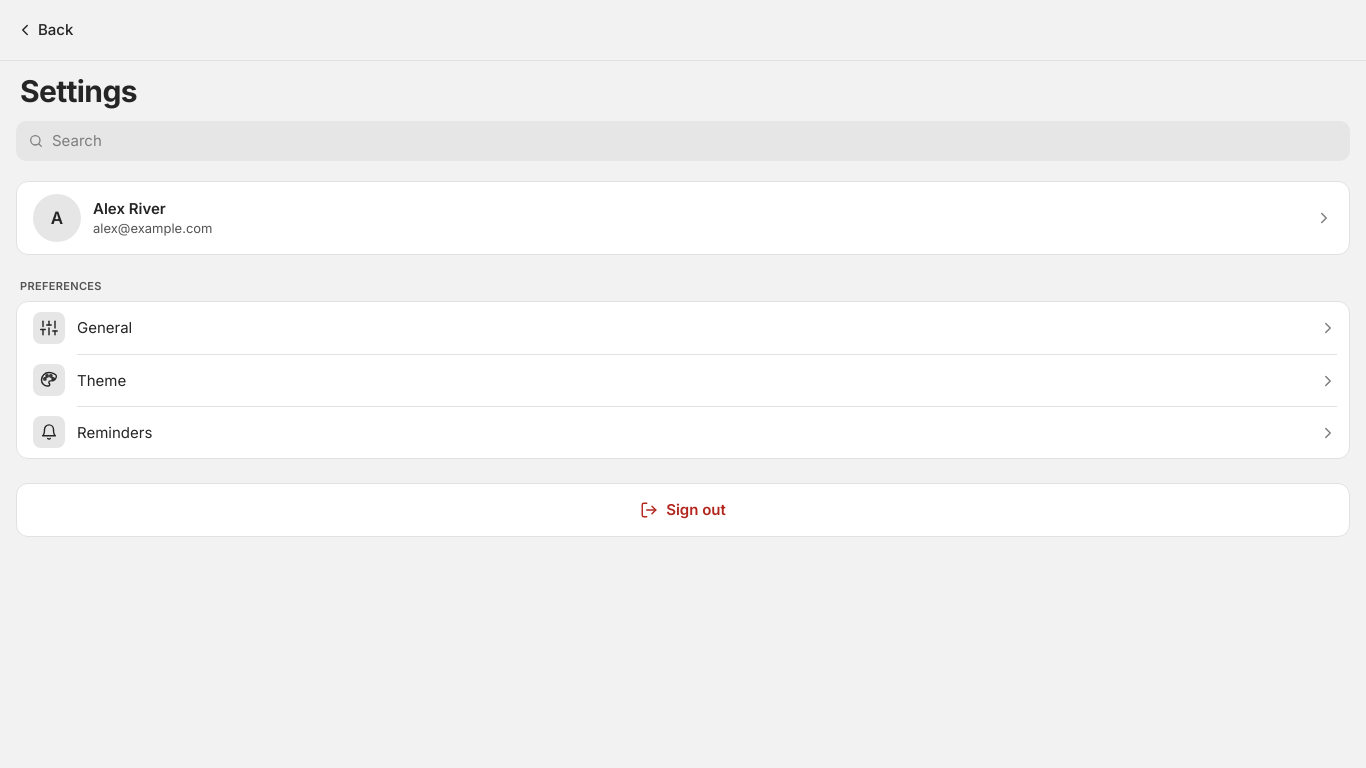
Scenario: Settings on phones (Part D) › the detail header has a back button labelled Back that shows 'Settings' and returns to the list
The width and height of the screenshot is (1366, 768).
Click the button "Theme". click: (683, 380)
box: [17,354,1349,406]
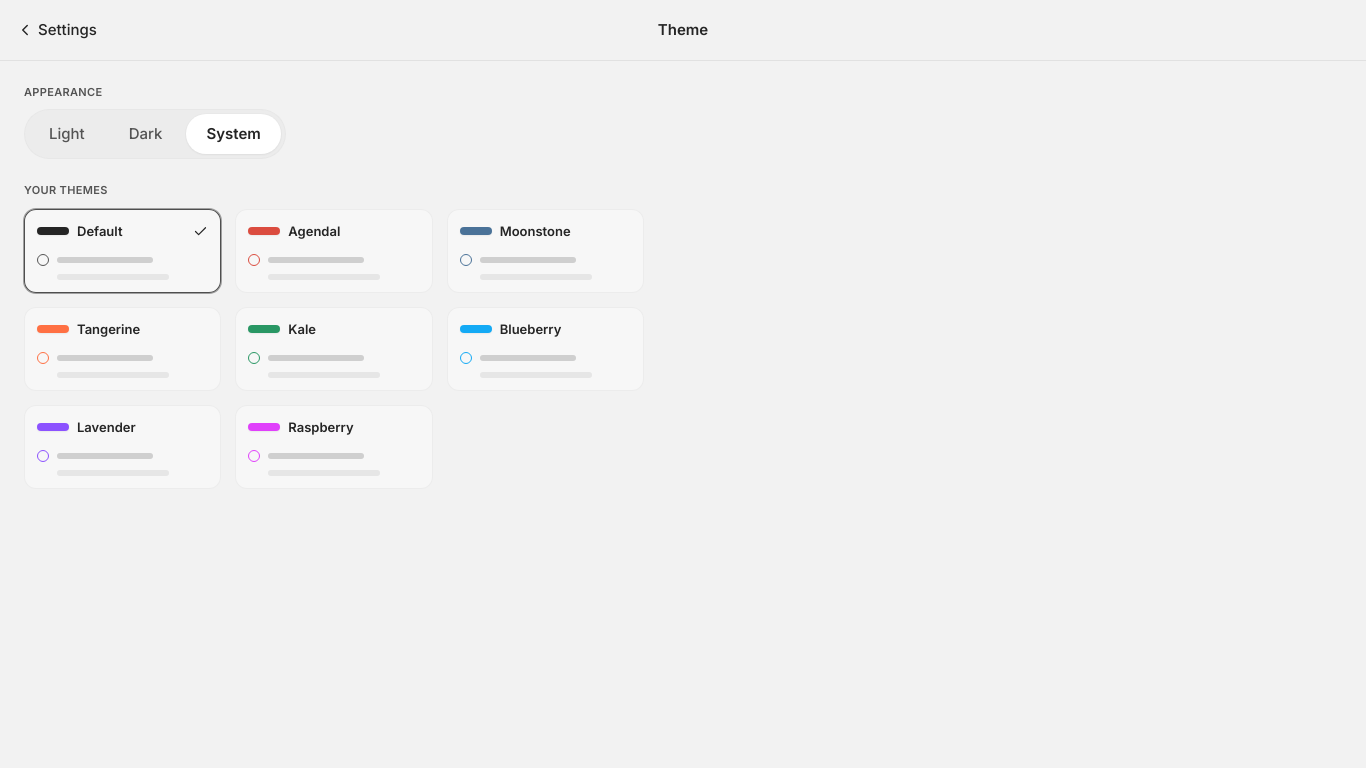
Check: the button with aria-label "Back" reads "Settings"
Check: the heading "Theme" is shown, box [658,20,708,39]
// Tap back button
Click the button with aria-label "Back". click: (56, 30)
box: [16,8,97,52]
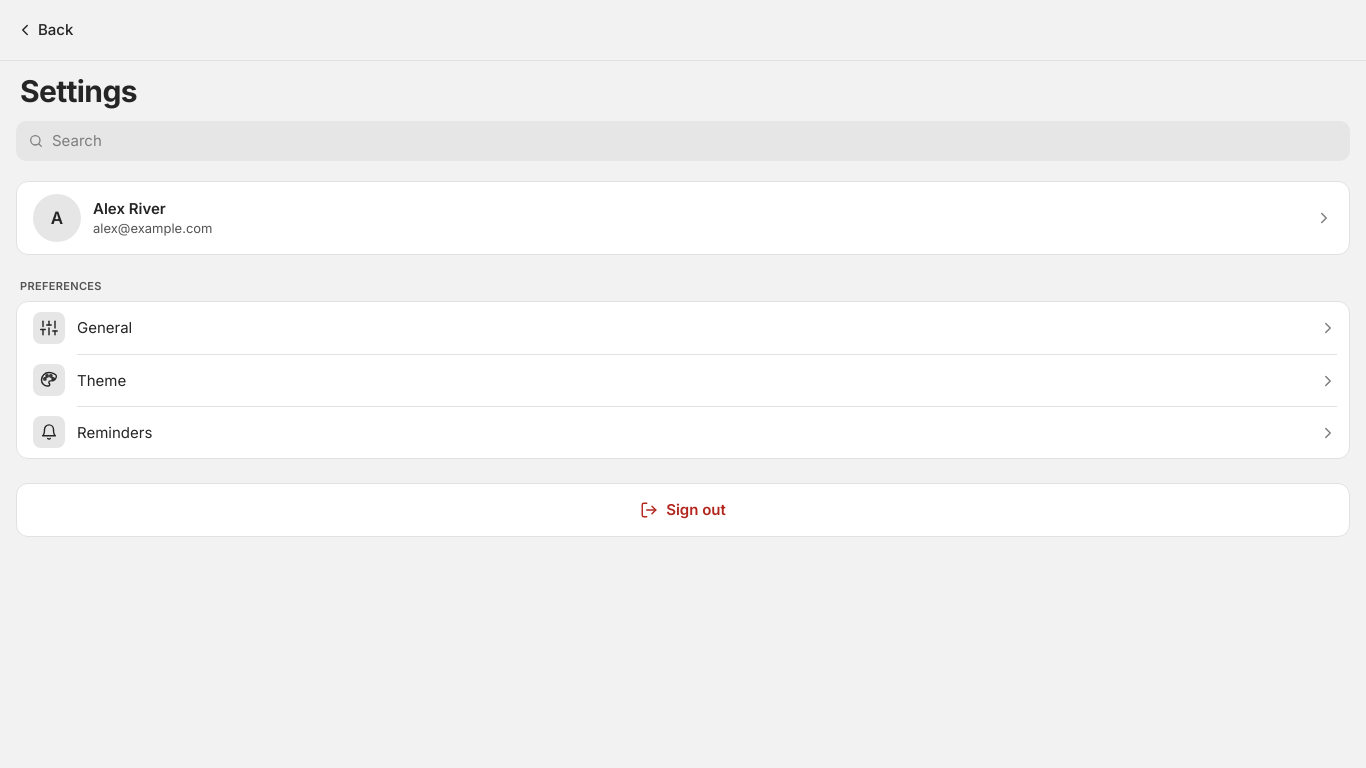
Check: the heading reads "Settings", box [20,73,137,109]
Check: the button "Back" is shown, box [16,8,73,52]
